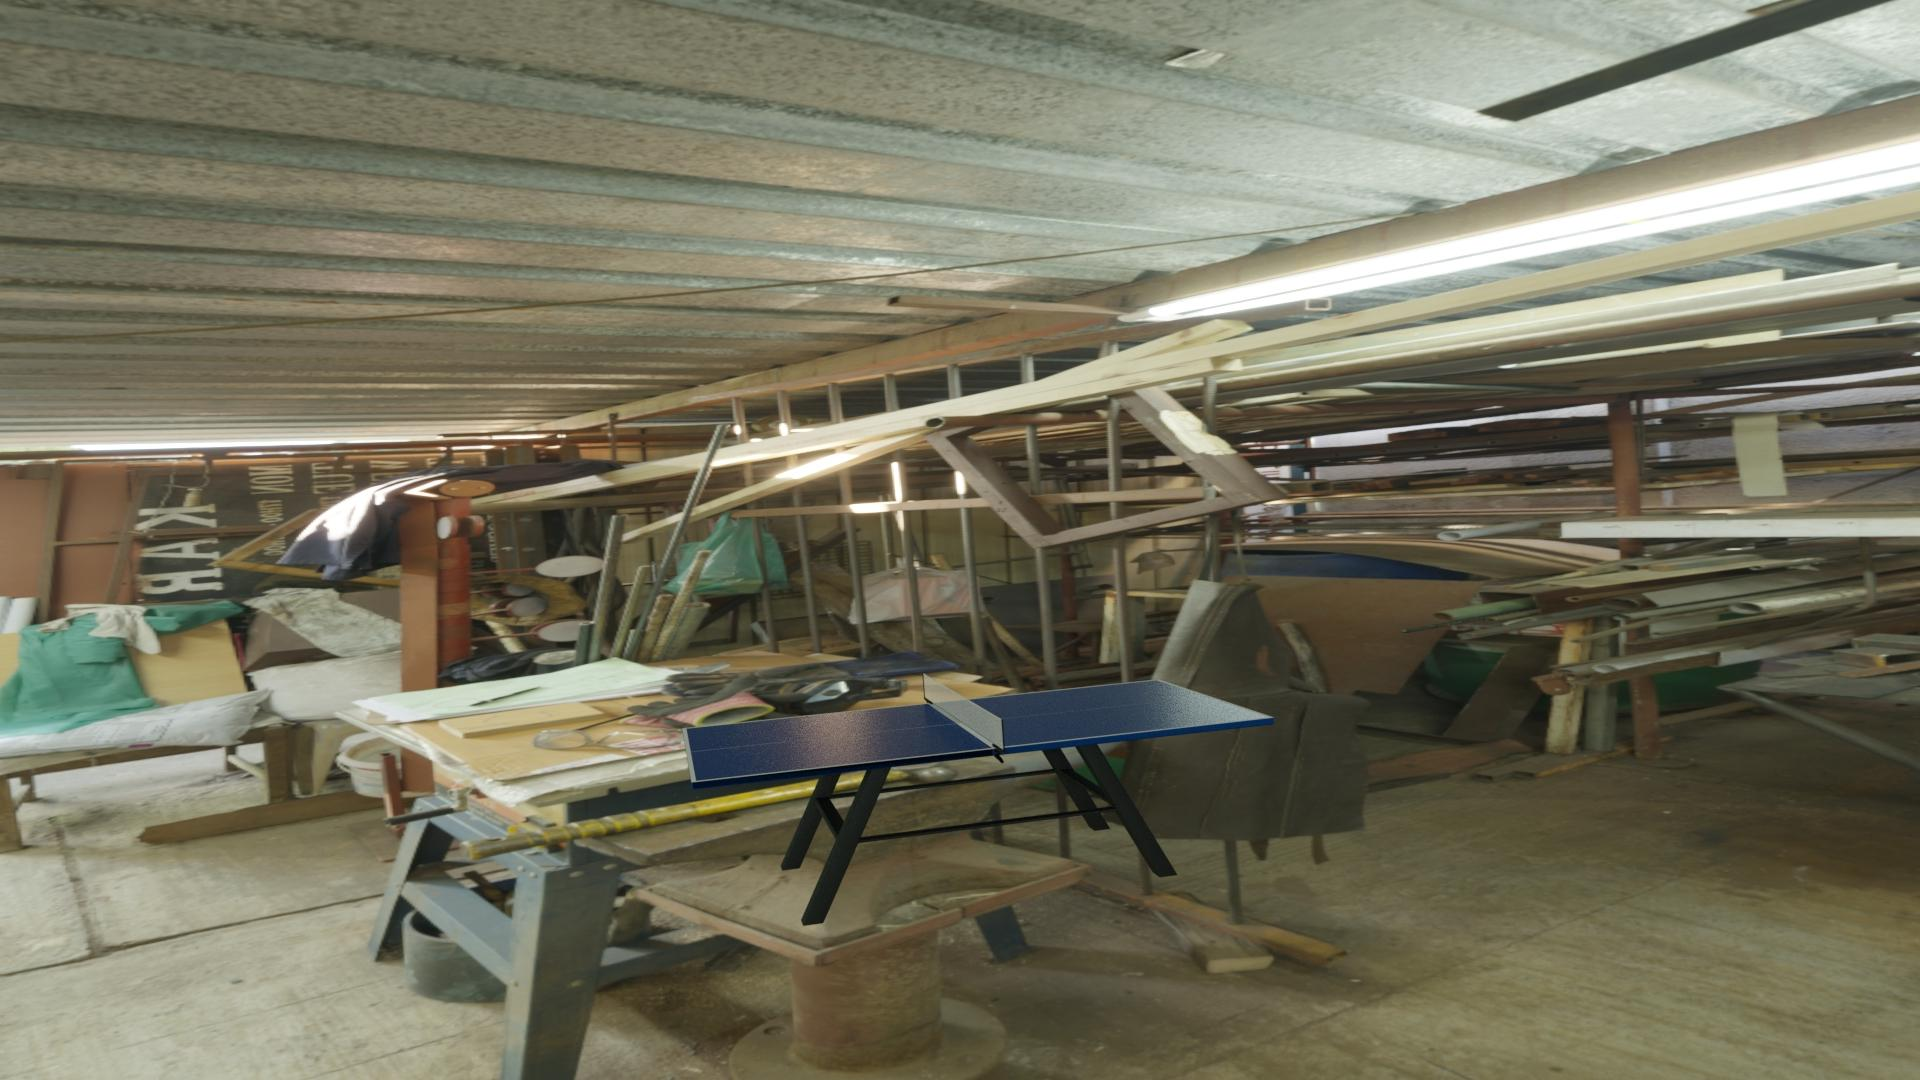table: (686, 680, 1269, 781)
